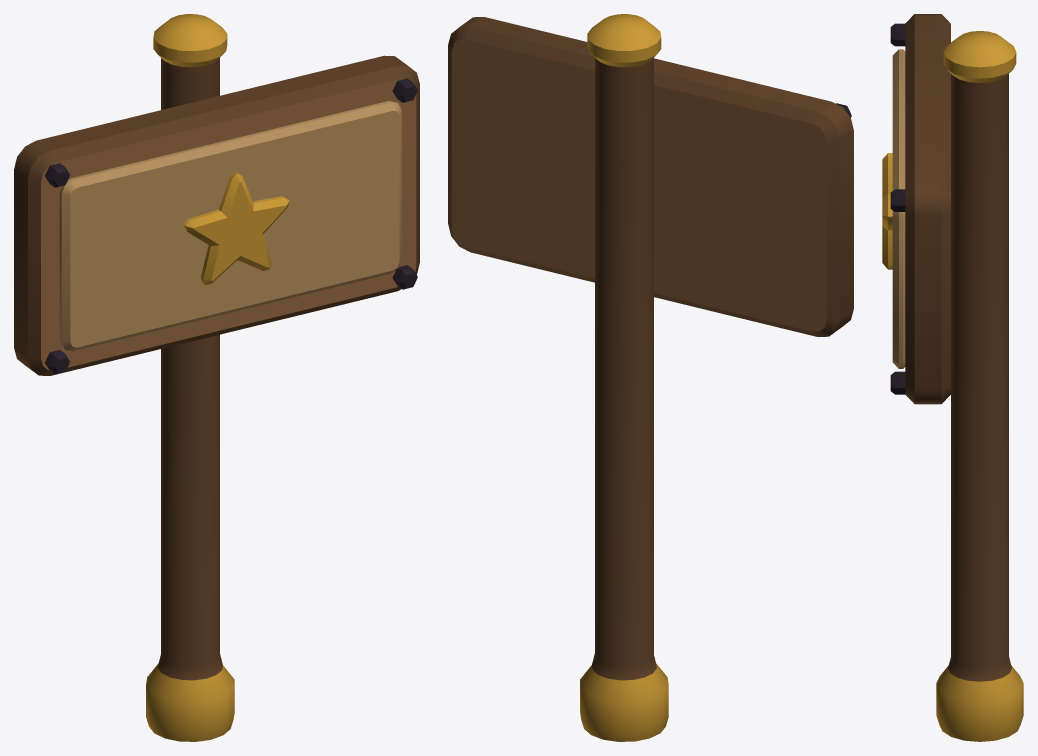
Rendered from Sign_03.glb.
3 renders of one model, left to right at view 1: azimuth 30°, elevation 25°; view 2: azimuth 150°, elevation 25°; view 3: azimuth 270°, elevation 25°, orthographic. The views are drawn at different scales.
Parts seen in each view (by area): view 1: Sign_03; view 2: Sign_03; view 3: Sign_03.
Boxes of the visible parts, box(x1,y1,x2,y2) form: Sign_03: box(14, 14, 419, 741); Sign_03: box(448, 14, 853, 741); Sign_03: box(882, 14, 1023, 741).
Bounding box in the file's own units: 2.13 × 3.65 × 0.68.
